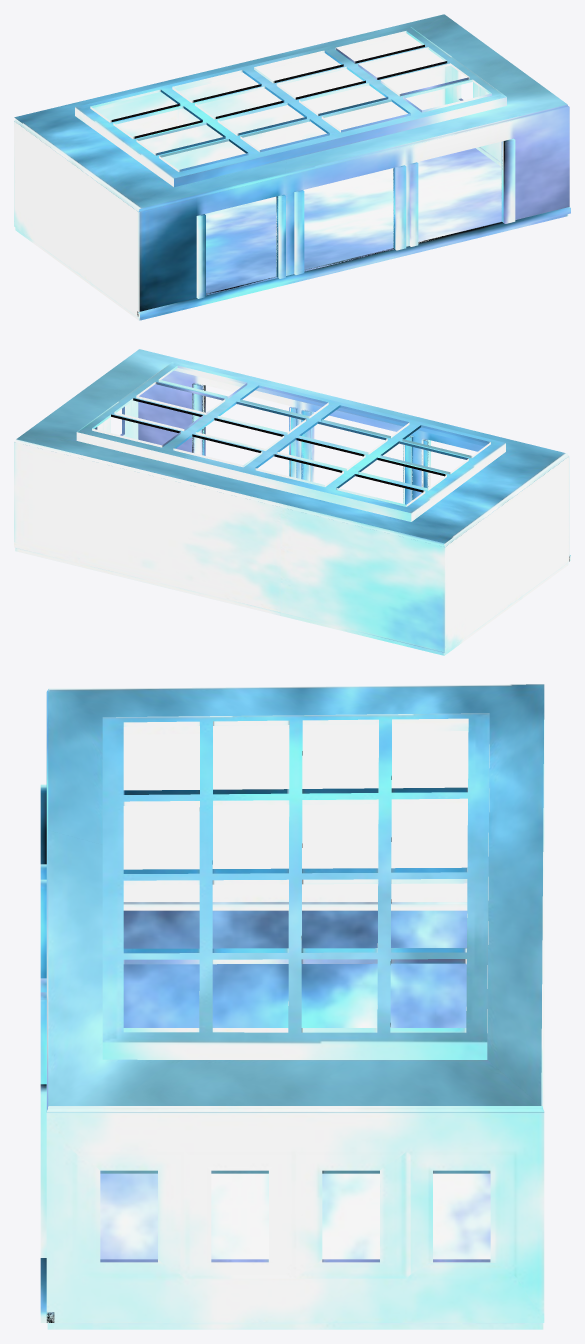
Rendered from Dreamroom.fbx.
3 renders of one model, top to bottom at view 1: azimuth 30°, elevation 25°; view 2: azimuth 150°, elevation 25°; view 3: azimuth 270°, elevation 25°, orthographic. The views are drawn at different scales.
Parts seen in each view (by area): view 1: Cube; view 2: Cube; view 3: Cube.
Part boxes in pixels (left/top/right/bottom): Cube: left=14, top=14, right=570, bottom=320; Cube: left=14, top=349, right=570, bottom=655; Cube: left=40, top=684, right=544, bottom=1329.
Bounding box in the file's own units: 2239 × 609 × 1125.
